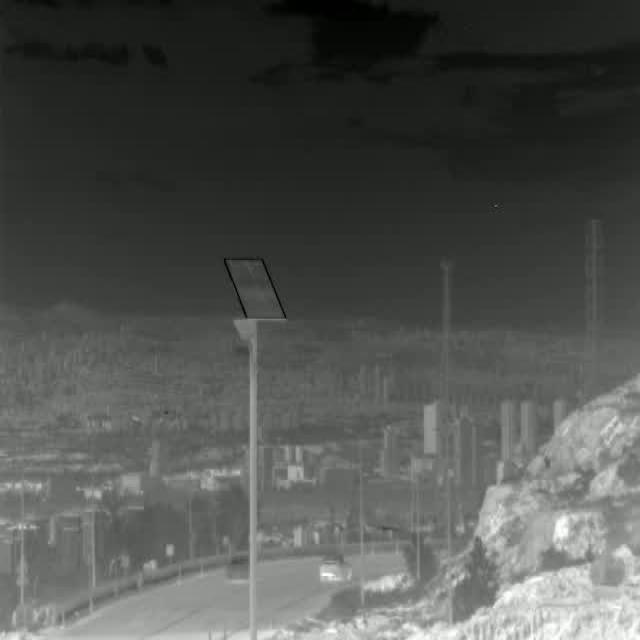Car: (320, 553, 352, 583), (225, 551, 249, 581)
